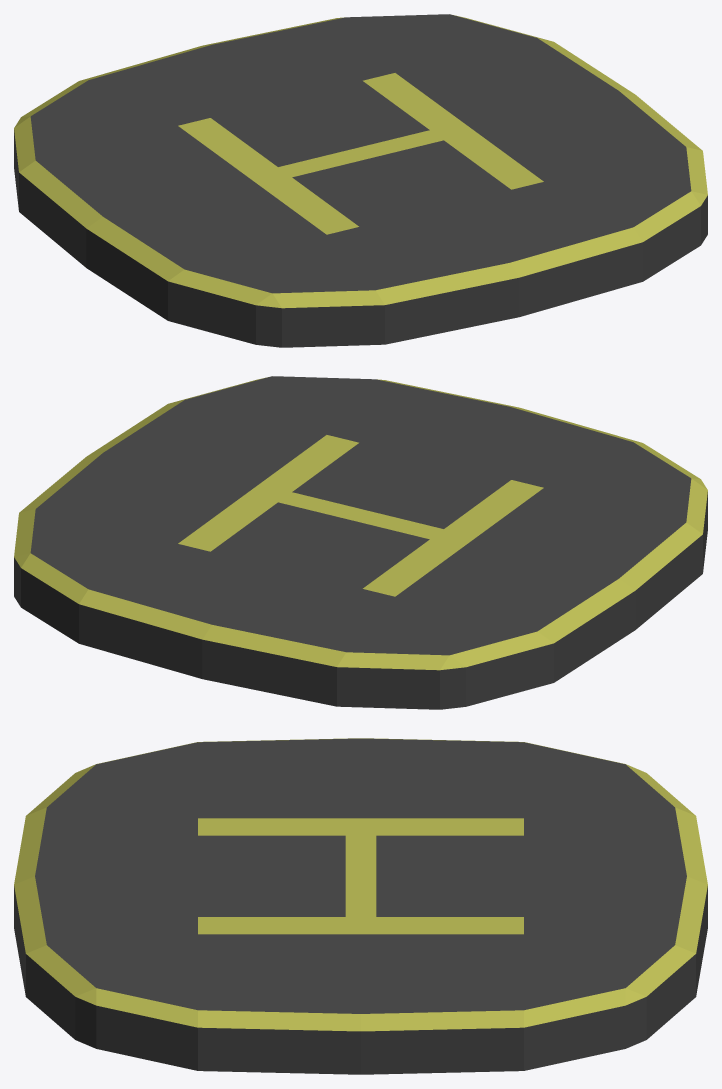
The model's file is Tarmac.fbx.
3 views of the same model, one above another, from view 1: azimuth 30°, elevation 25°; view 2: azimuth 150°, elevation 25°; view 3: azimuth 270°, elevation 25° (orthographic). The views are drawn at different scales.
Parts seen in each view (by area): view 1: Cube; view 2: Cube; view 3: Cube.
Part boxes in pixels (x1,y1,x2,y2): Cube: (14, 14, 707, 347); Cube: (14, 376, 707, 709); Cube: (14, 738, 707, 1074).
Size of the model in its own units: 200 by 16.5 by 200.
